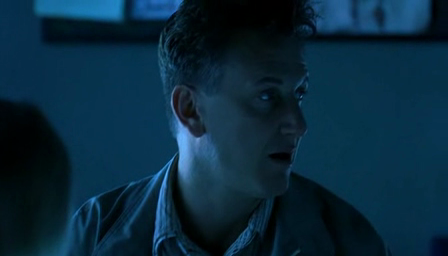cu: (1, 1, 448, 256)
face: (236, 45, 309, 195)
person: (60, 1, 389, 255)
